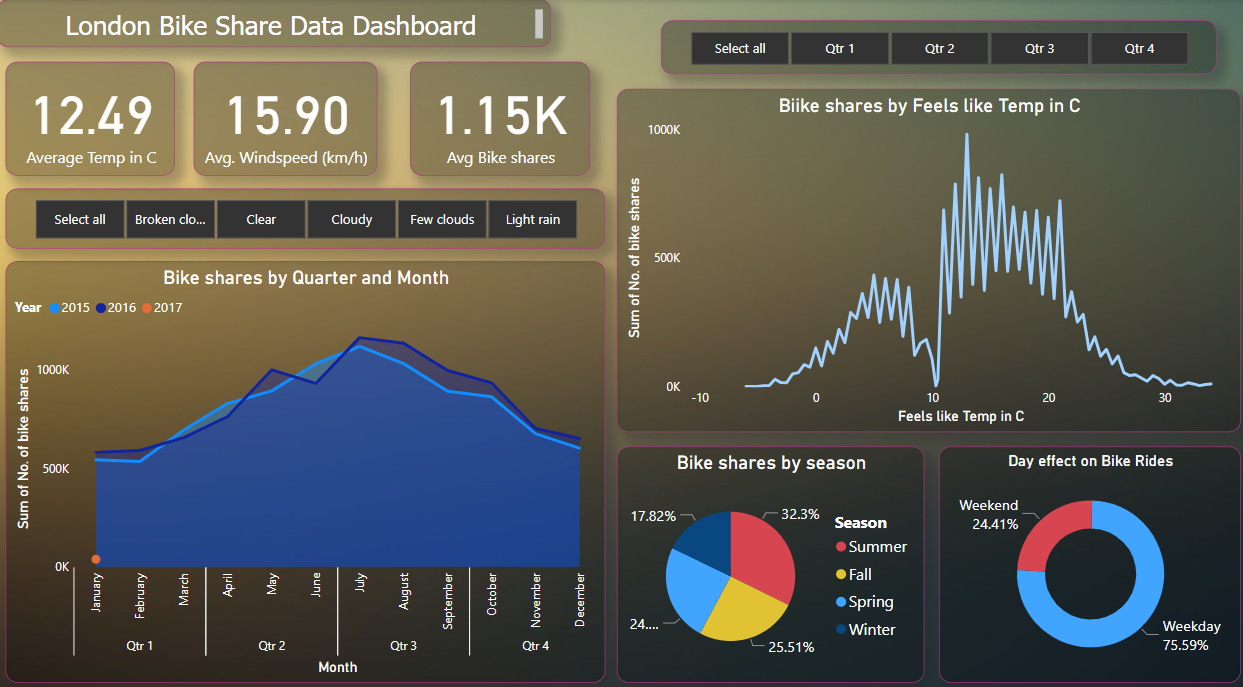

The page's visual inventory and layout, read from the dashboard file:
{"tool":"powerbi","page":{"name":"Page 1","canvas":[1280,720],"ordinal":0},"visuals":[{"type":"lineChart","title":"Biike shares by Feels like Temp in C","fields":{"Category":["london.Feels like Temp in C"],"Y":["Sum(london.No. of bike shares)"]},"box":[629.5,91.2,633.9,348.8],"z":0},{"type":"donutChart","title":"Day effect on Bike Rides","fields":{"Category":["london.is_weekend"],"Y":["Sum(london.No. of bike shares)"]},"box":[956.6,454.4,306.8,240.2],"z":1000},{"type":"areaChart","title":"Bike shares by Quarter and Month","fields":{"Y":["Sum(london.No. of bike shares)"],"Category":["london.timestamp.Variation.Date Hierarchy.Quarter","london.timestamp.Variation.Date Hierarchy.Month"],"Series":["london.timestamp.Variation.Date Hierarchy.Year"]},"box":[8.7,266.3,609.3,428.4],"z":2000},{"type":"textbox","box":[0,0,563,49.2],"z":3000},{"type":"pieChart","title":"Bike shares by season","fields":{"Y":["Sum(london.No. of bike shares)"],"Category":["london.season"]},"box":[629.5,454.4,312.6,240.2],"z":4000},{"type":"card","fields":{"Values":["Avg(london.Real Temp in C)"]},"box":[8.7,63.7,172.2,115.8],"z":5000},{"type":"card","fields":{"Values":["Avg(london.Wind_speed (km/h))"]},"box":[199.7,63.7,186.7,115.8],"z":6000},{"type":"card","fields":{"Values":["Avg(london.No. of bike shares)"]},"box":[419.7,63.7,182.3,115.8],"z":7000},{"type":"slicer","fields":{"Values":["london.timestamp.Variation.Date Hierarchy.Quarter"]},"box":[674.4,21.7,564.4,55],"z":8000},{"type":"slicer","fields":{"Values":["london.weather_code"]},"box":[8.7,192.5,609.3,60.8],"z":9000}]}

Visuals, with their boxes in screenshot pixels (x1, y1, x2, y2), scaled from the page's 1280x720 canvas onto the 1243x687 screenshot:
"Biike shares by Feels like Temp in C" lineChart: 611:87:1227:420
"Day effect on Bike Rides" donutChart: 929:434:1227:663
"Bike shares by Quarter and Month" areaChart: 8:254:600:663
textbox: 0:0:547:47
"Bike shares by season" pieChart: 611:434:915:663
card - Avg(london.Real Temp in C): 8:61:176:171
card - Avg(london.Wind_speed (km/h)): 194:61:375:171
card - Avg(london.No. of bike shares): 408:61:585:171
slicer - london.timestamp.Variation.Date Hierarchy.Quarter: 655:21:1203:73
slicer - london.weather_code: 8:184:600:242
